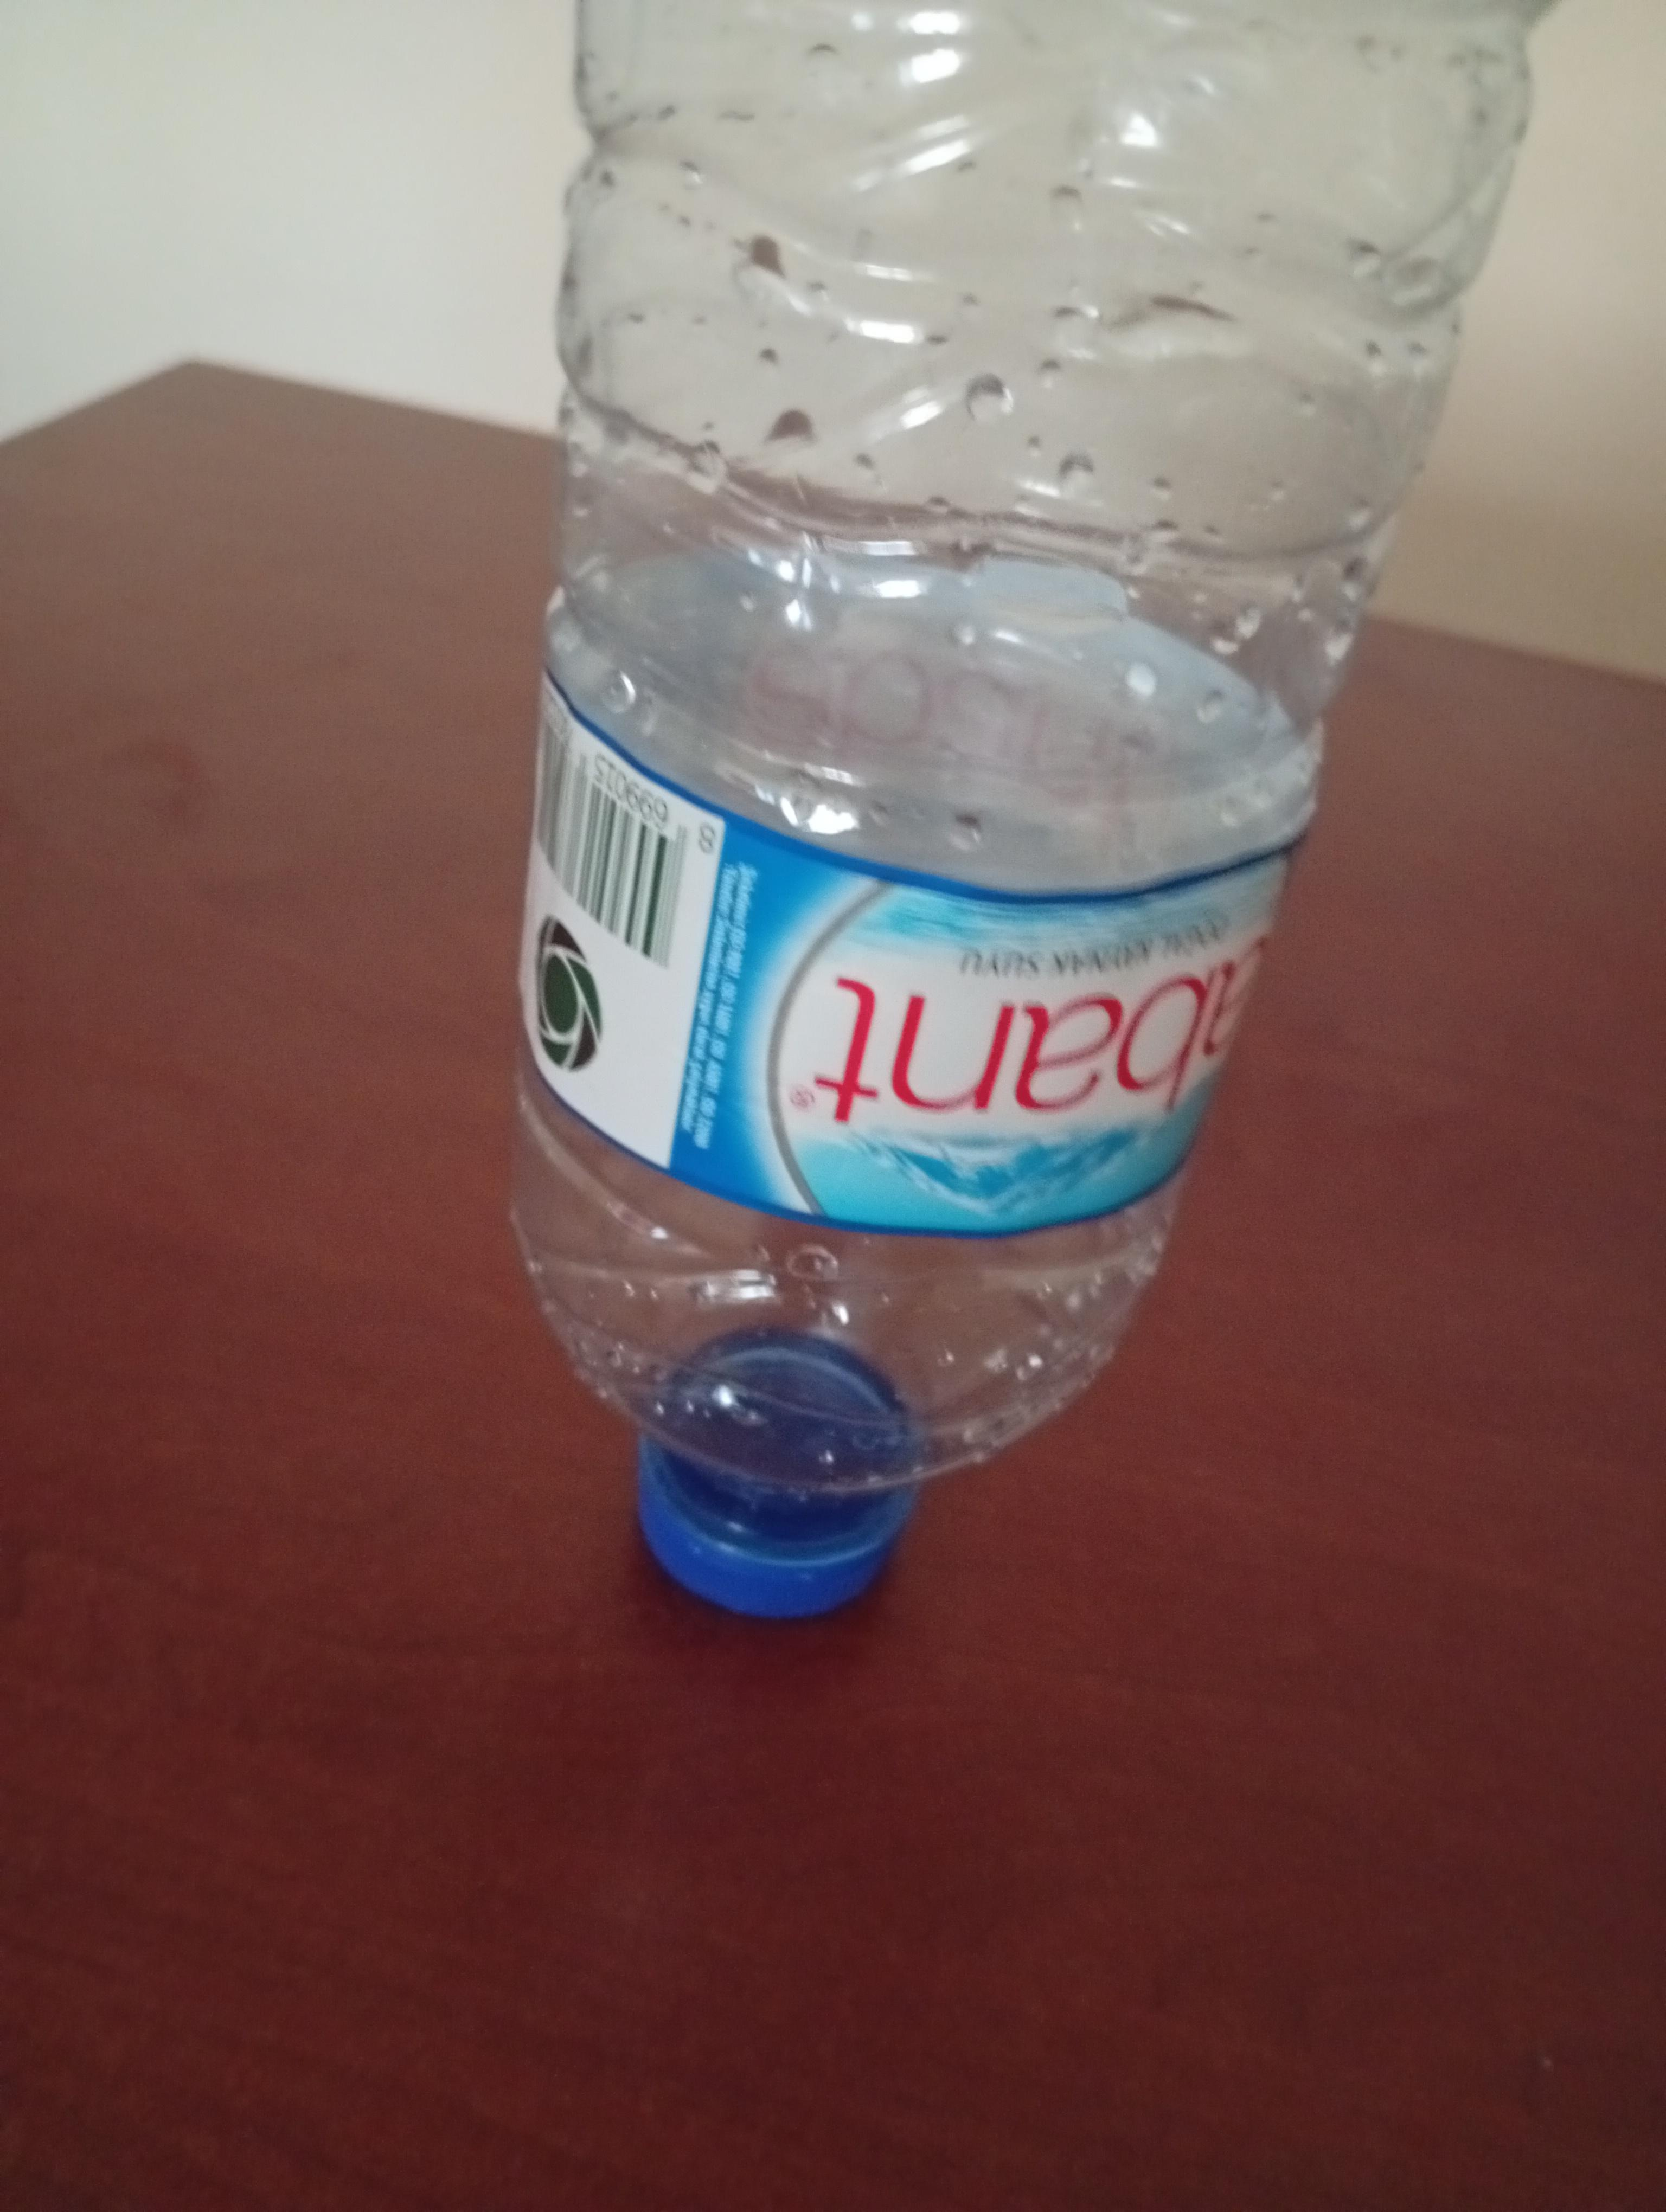etiketli: (497, 0, 1575, 1649)
